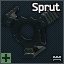Delta-tek Sprut mount for pump-action shotguns: (0, 0, 64, 64)
